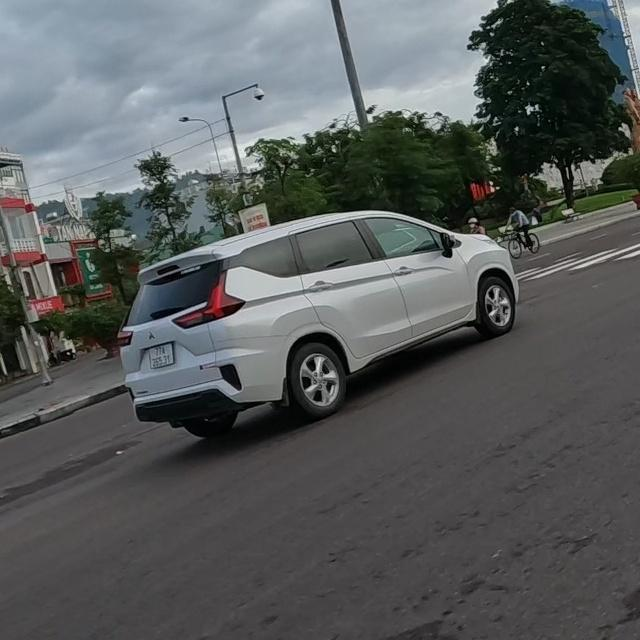license-plate: (146, 342, 175, 369)
